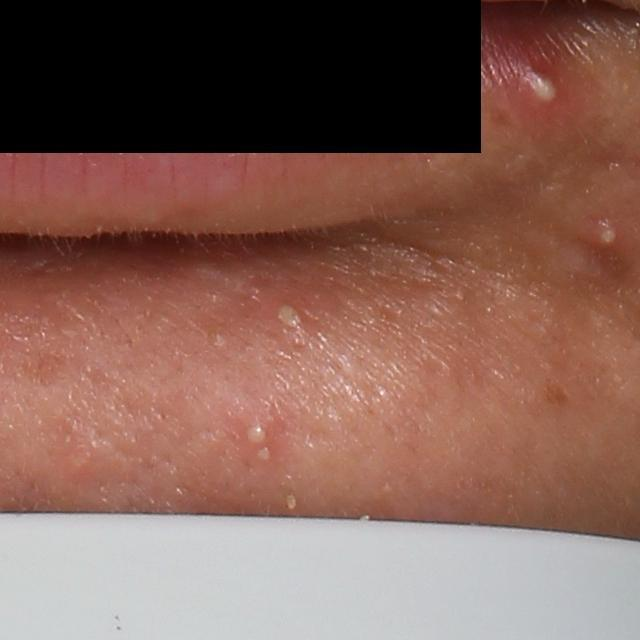pustule: (508, 63, 570, 117), (581, 216, 631, 257), (269, 300, 307, 332), (240, 420, 271, 447), (245, 440, 277, 463)
